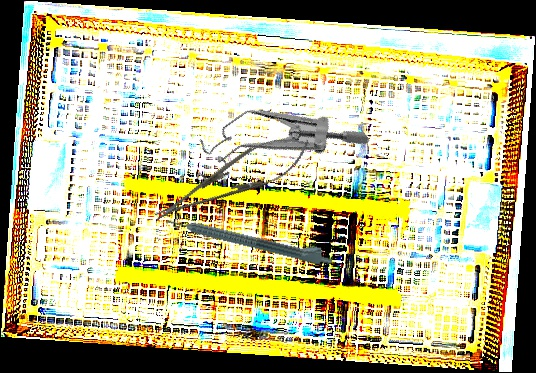Handpiece: (165, 207, 335, 269)
Needle Holder: (146, 122, 318, 236)
Speculum: (179, 59, 371, 235)
